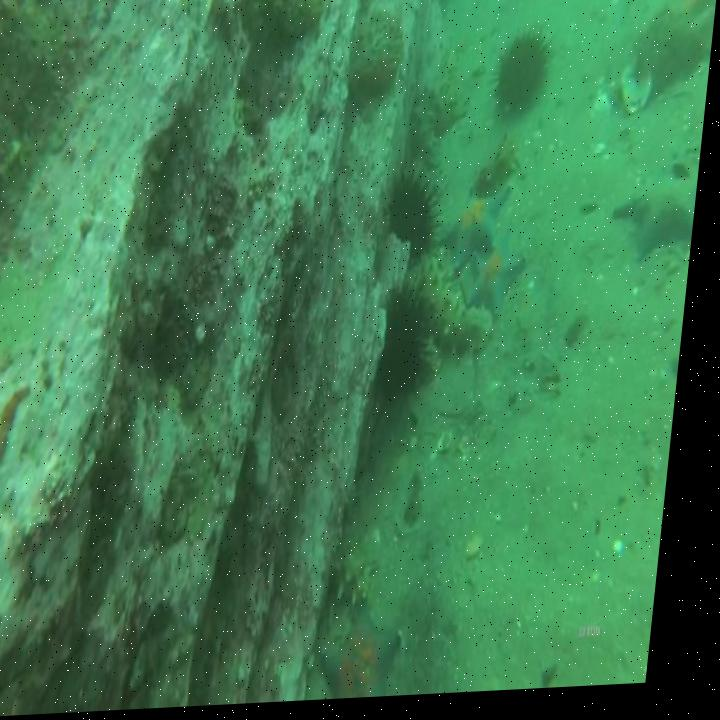echinus: (382, 157, 457, 277), (382, 281, 446, 412), (484, 34, 560, 131)
holothurian: (417, 261, 503, 364), (405, 66, 480, 162), (334, 524, 396, 610), (476, 131, 529, 207)
starfish: (325, 594, 422, 701), (613, 166, 704, 276), (445, 188, 515, 279), (469, 246, 535, 330)
